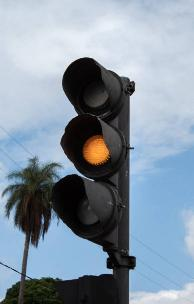yellow_light: (51, 57, 127, 239)
